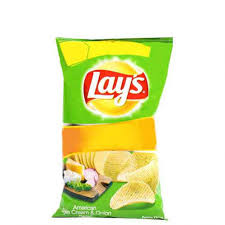lays-small: (55, 33, 168, 218)
